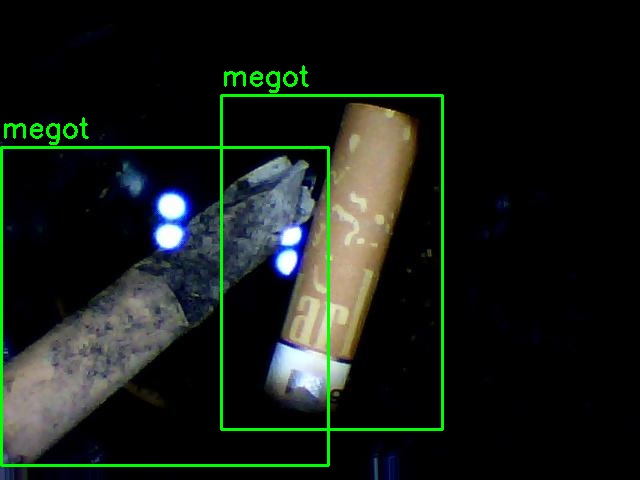megot: (1, 147, 328, 465), (221, 95, 442, 429)
